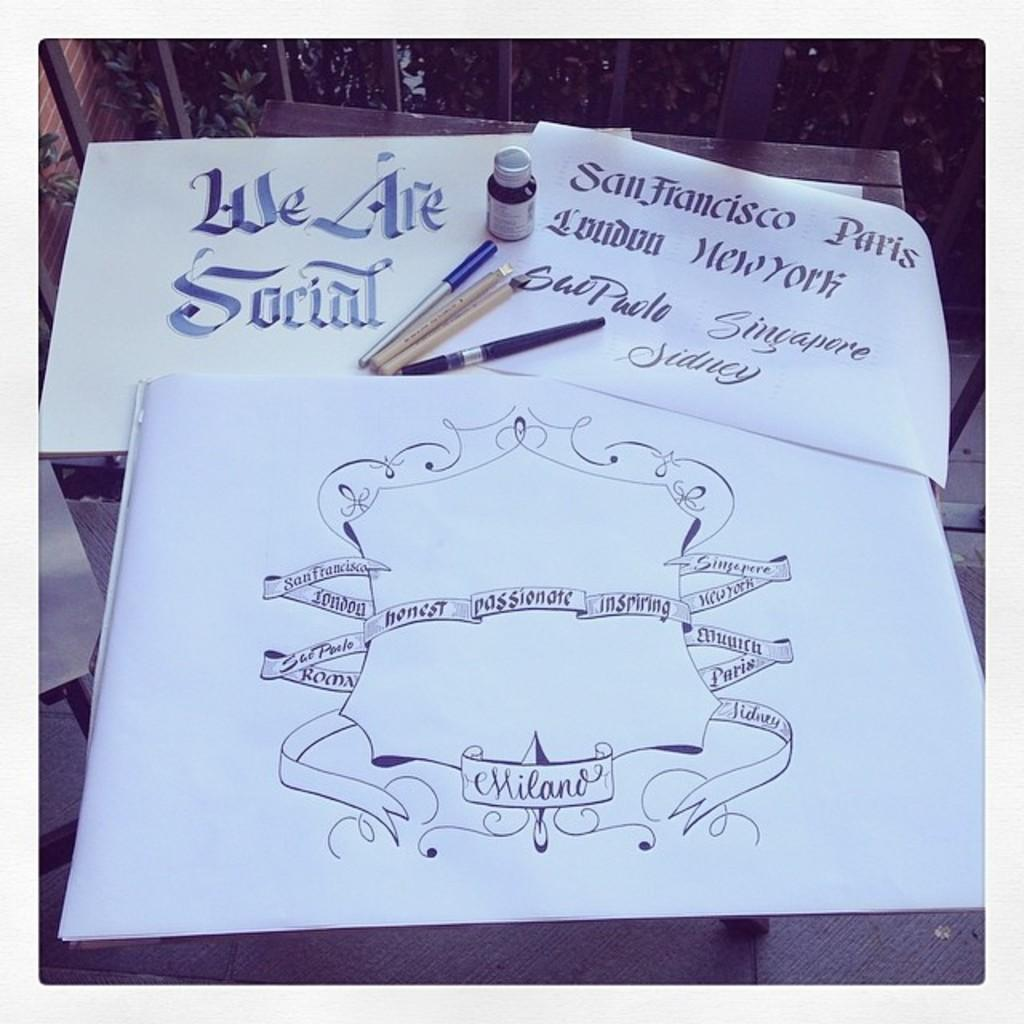pen: (349, 234, 507, 371), (365, 259, 512, 376), (386, 286, 520, 370), (410, 312, 602, 368)
